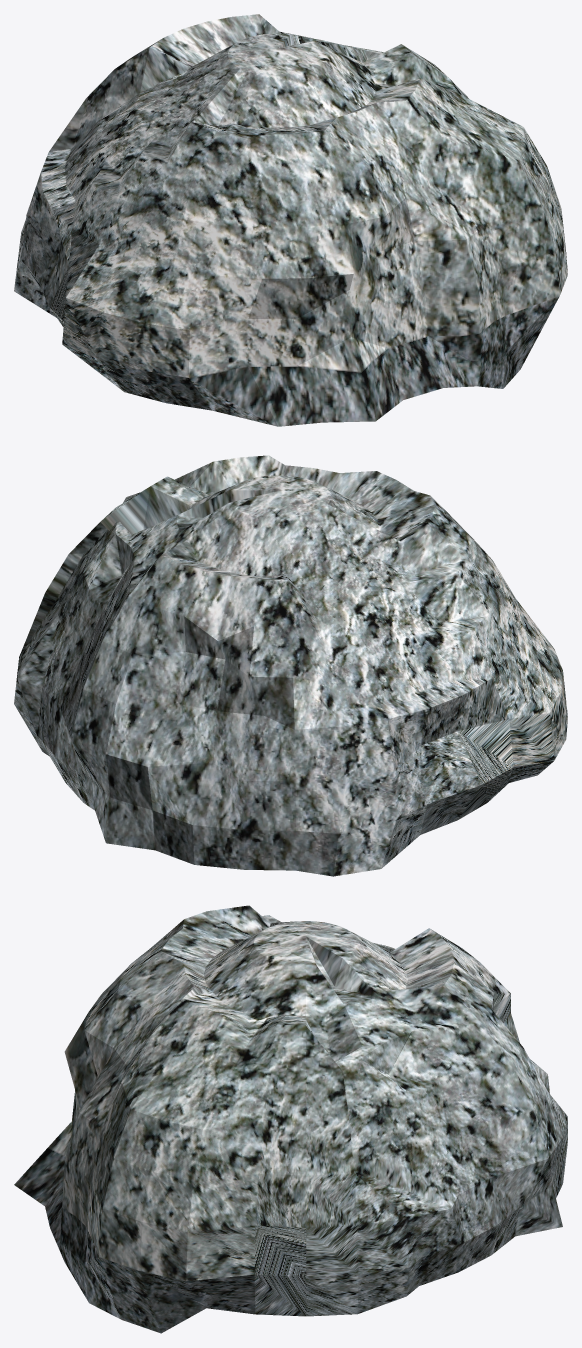
The model's file is rock.FBX.
The picture shows the model from 3 angles, top to bottom: view 1: azimuth 30°, elevation 25°; view 2: azimuth 150°, elevation 25°; view 3: azimuth 270°, elevation 25°; orthographic projection. The views are drawn at different scales.
Visible parts, largest first — view 1: Sphere001; view 2: Sphere001; view 3: Sphere001.
Boxes of the visible parts, box(x1,y1,x2,y2) form: Sphere001: box(14, 14, 567, 426); Sphere001: box(14, 455, 567, 876); Sphere001: box(14, 905, 567, 1333).
Bounding box in the file's own units: 61.92 × 36.9 × 60.66.
Materials: 1 (1 with a texture image).
